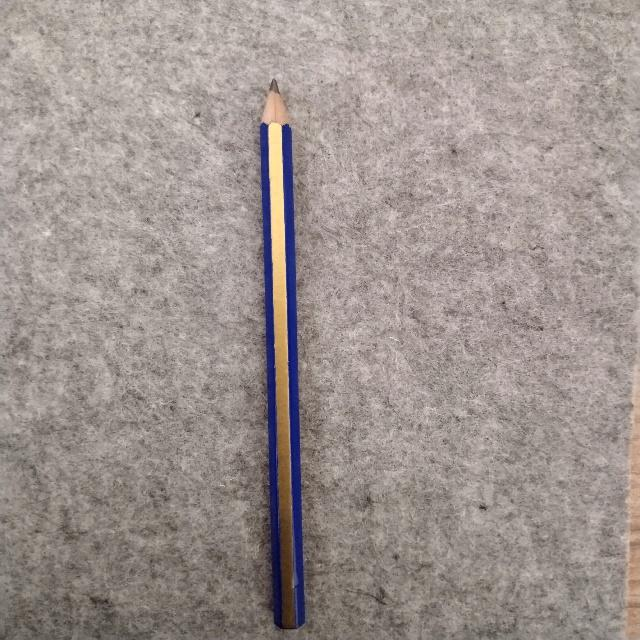pencil: (260, 80, 305, 629)
